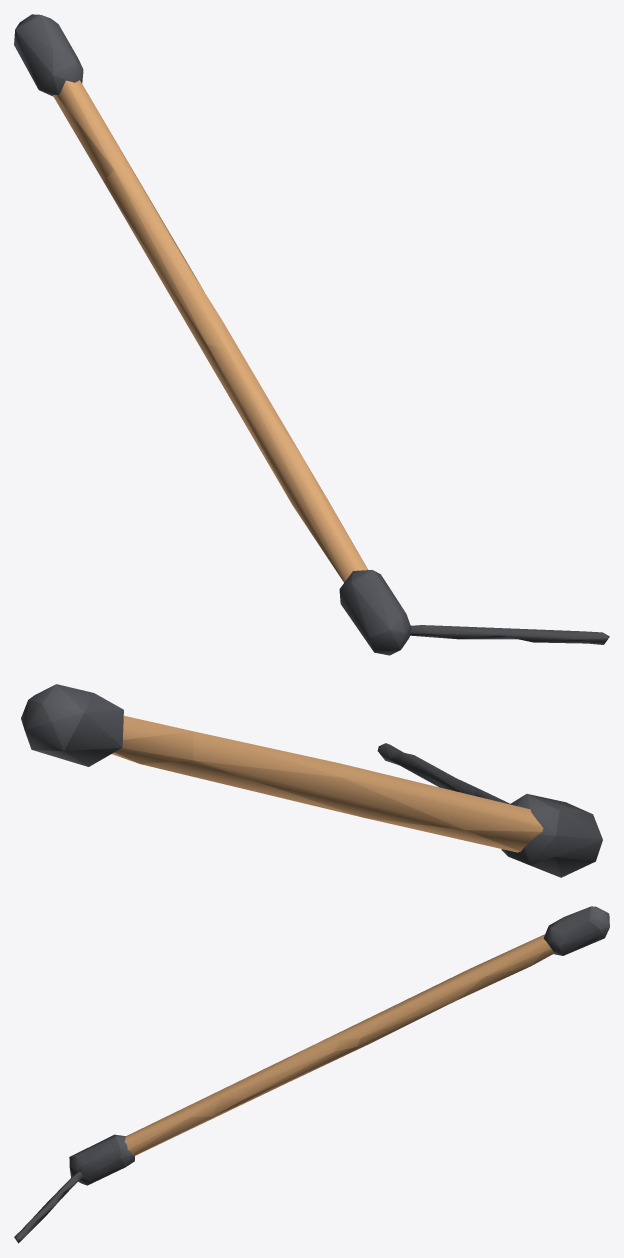
The model's file is neon_tube_o.glb.
The picture shows the model from 3 angles, top to bottom: view 1: azimuth 30°, elevation 25°; view 2: azimuth 150°, elevation 25°; view 3: azimuth 270°, elevation 25°; orthographic projection. The views are drawn at different scales.
Visible parts, largest first — view 1: neon_tube_o_glow, neon_tube_o; view 2: neon_tube_o_glow, neon_tube_o; view 3: neon_tube_o_glow, neon_tube_o.
Part boxes in pixels (x1=…): neon_tube_o_glow: x1=52, y1=80, x2=367, y2=582; neon_tube_o: x1=14, y1=14, x2=609, y2=655; neon_tube_o_glow: x1=112, y1=715, x2=543, y2=852; neon_tube_o: x1=21, y1=684, x2=602, y2=877; neon_tube_o_glow: x1=124, y1=934, x2=554, y2=1155; neon_tube_o: x1=14, y1=906, x2=609, y2=1243.
Bounding box in the file's own units: 0.289 × 0.5359 × 1.04.
